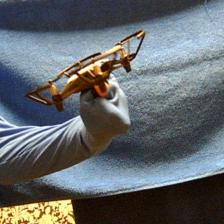drone: (22, 28, 146, 114)
